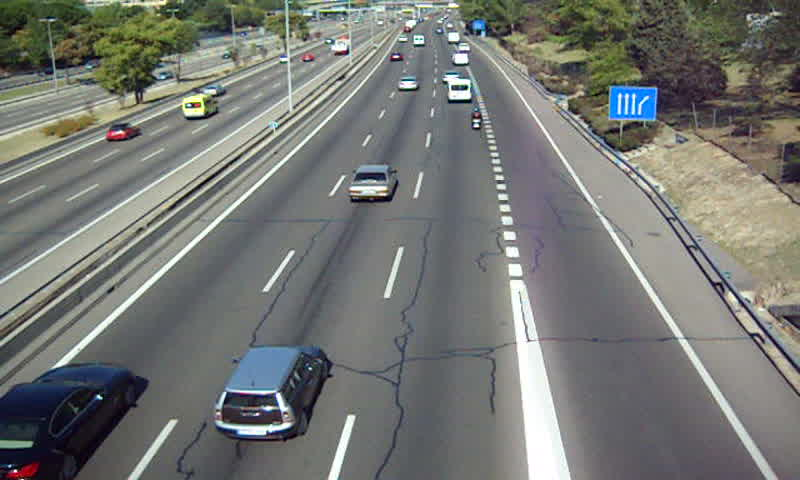car: (1, 364, 130, 480), (216, 346, 326, 440), (347, 163, 396, 202), (396, 76, 418, 92), (442, 70, 459, 84)
motorcycle: (471, 107, 483, 130)
van: (448, 78, 472, 102), (452, 53, 470, 66)
